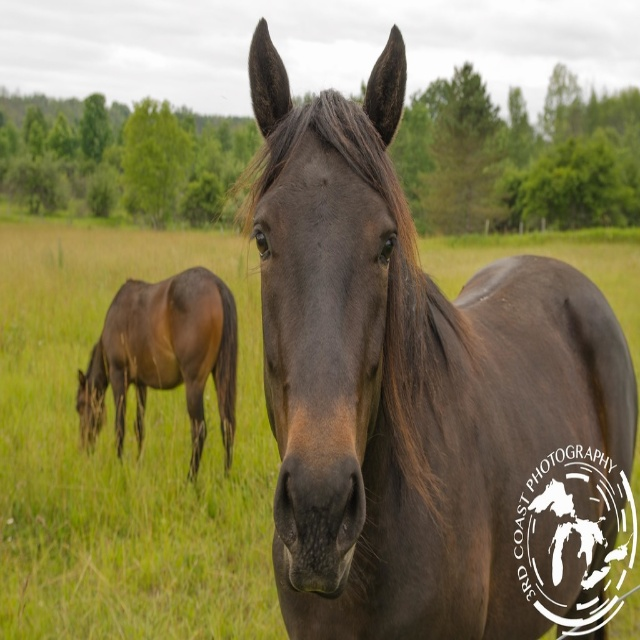Horse: (226, 15, 640, 639), (74, 265, 239, 482)
